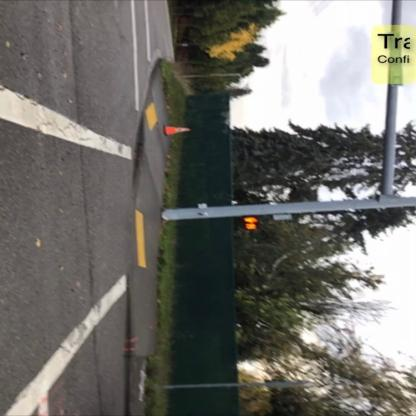Don-t Walk: (240, 217, 259, 225)
